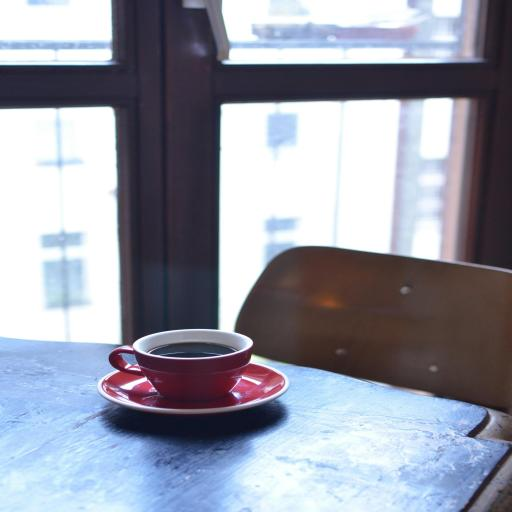cup: (109, 328, 254, 400)
